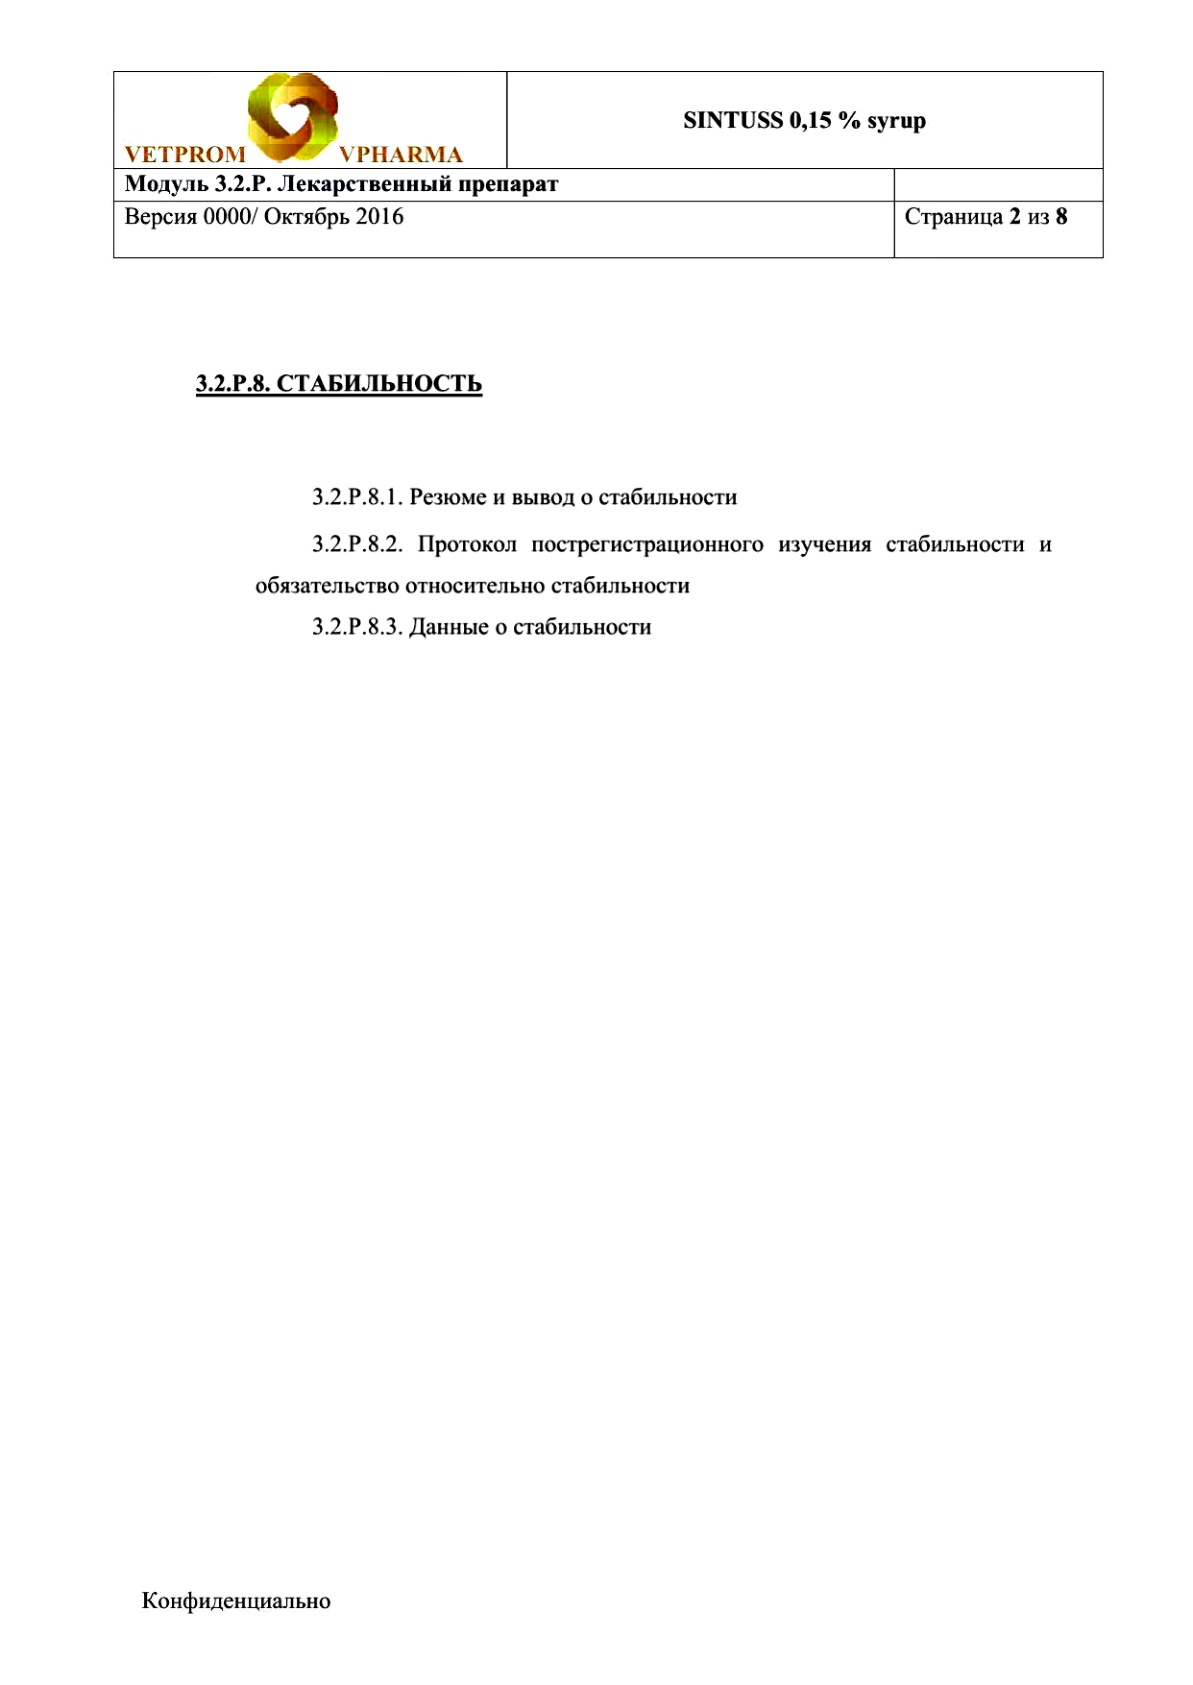merged_cells: (114, 71, 1104, 260)
